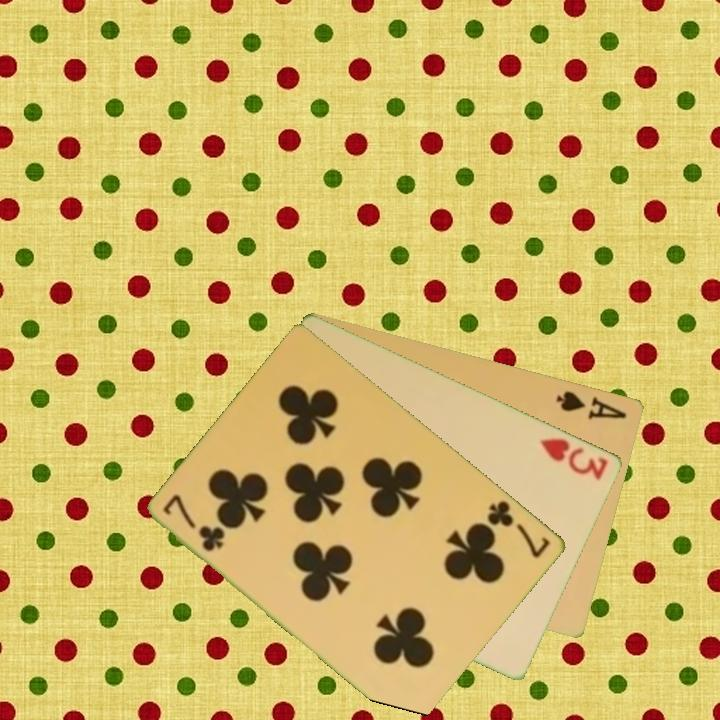3h: (536, 434, 611, 483)
7c: (484, 496, 554, 561), (160, 490, 229, 555)
As: (553, 387, 630, 422)
